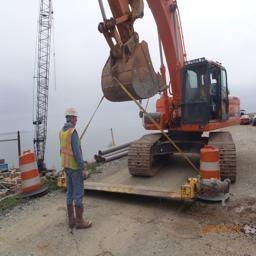hat: (63, 105, 80, 117)
low quality vest: (57, 127, 84, 172)
